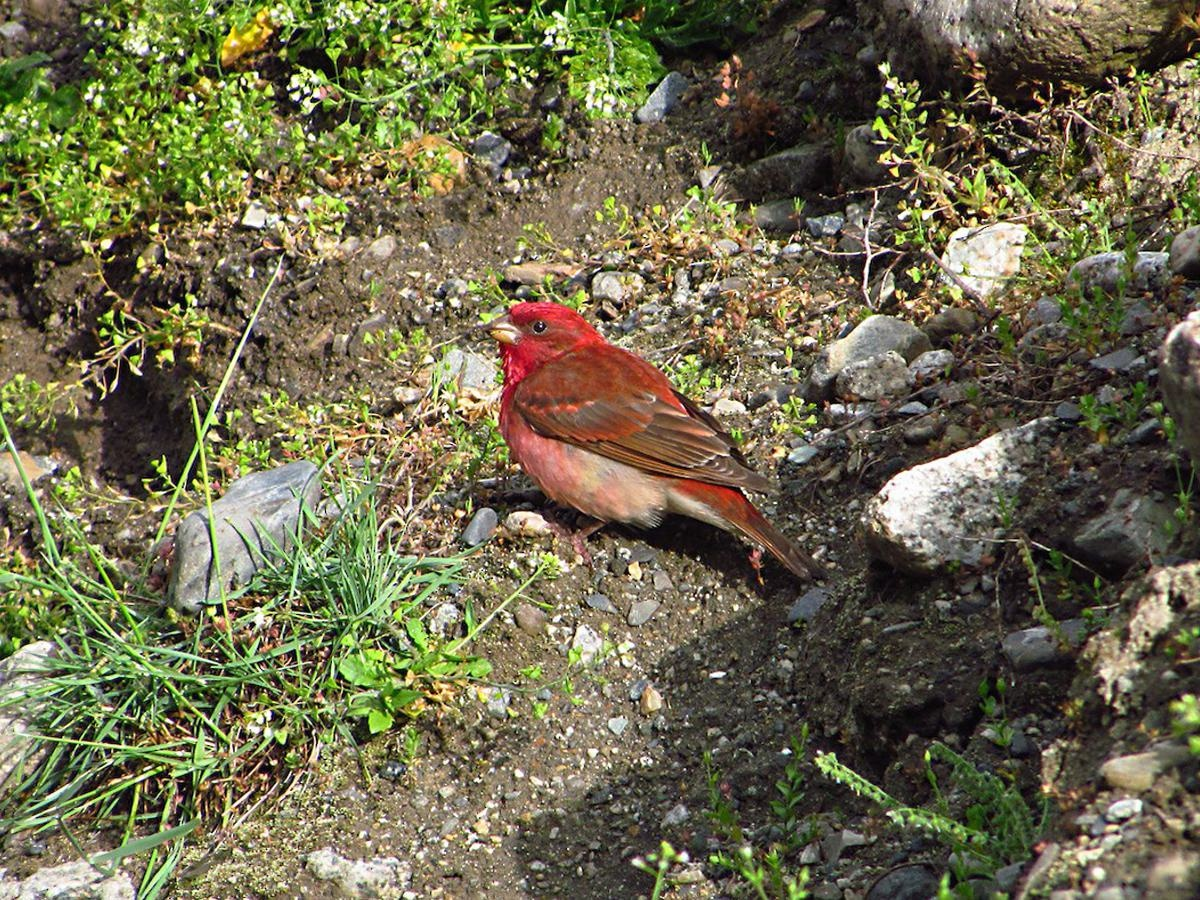rosefinch: (474, 284, 889, 641)
